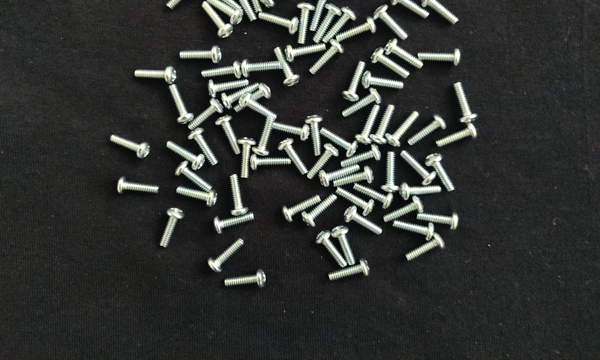shortscrew: (373, 4, 411, 41), (321, 6, 358, 44), (400, 151, 437, 187), (371, 47, 410, 80), (384, 39, 424, 71), (309, 39, 344, 75), (207, 240, 244, 274), (408, 114, 448, 145), (343, 87, 383, 118), (301, 195, 337, 229), (314, 2, 343, 44), (315, 230, 347, 268), (385, 112, 419, 147), (201, 2, 233, 39), (320, 127, 358, 158), (166, 141, 205, 171), (336, 16, 379, 43), (426, 154, 456, 192), (188, 128, 218, 166), (279, 138, 309, 176), (233, 84, 272, 113), (406, 234, 446, 262), (336, 188, 376, 216), (109, 134, 151, 160), (239, 93, 278, 121), (176, 161, 212, 191), (220, 85, 263, 110), (345, 207, 383, 235), (355, 104, 380, 146), (159, 208, 184, 250), (274, 47, 300, 87), (169, 85, 195, 125), (341, 61, 366, 102), (454, 82, 479, 123), (436, 124, 478, 148), (371, 105, 395, 147), (206, 0, 243, 27), (258, 12, 300, 35), (363, 70, 405, 93), (331, 226, 355, 266), (216, 115, 240, 155), (282, 196, 320, 221), (333, 166, 374, 189), (422, 0, 459, 25), (329, 260, 371, 282), (213, 213, 255, 235), (318, 165, 360, 187), (202, 59, 242, 81), (224, 269, 267, 289), (342, 147, 381, 169), (241, 58, 283, 78), (229, 174, 249, 216), (393, 221, 435, 241), (253, 118, 274, 158), (117, 176, 161, 195), (177, 187, 218, 207), (296, 2, 315, 44), (284, 43, 326, 62), (179, 46, 222, 64), (207, 80, 250, 98), (390, 0, 430, 19), (237, 138, 256, 178), (271, 122, 311, 141), (399, 183, 441, 201), (135, 67, 177, 85), (418, 212, 460, 230), (194, 100, 223, 126), (306, 115, 324, 155), (310, 0, 333, 31), (418, 49, 462, 65), (228, 0, 257, 22), (250, 155, 292, 170), (205, 0, 242, 13), (166, 0, 202, 10), (239, 0, 262, 13), (260, 0, 292, 8)
